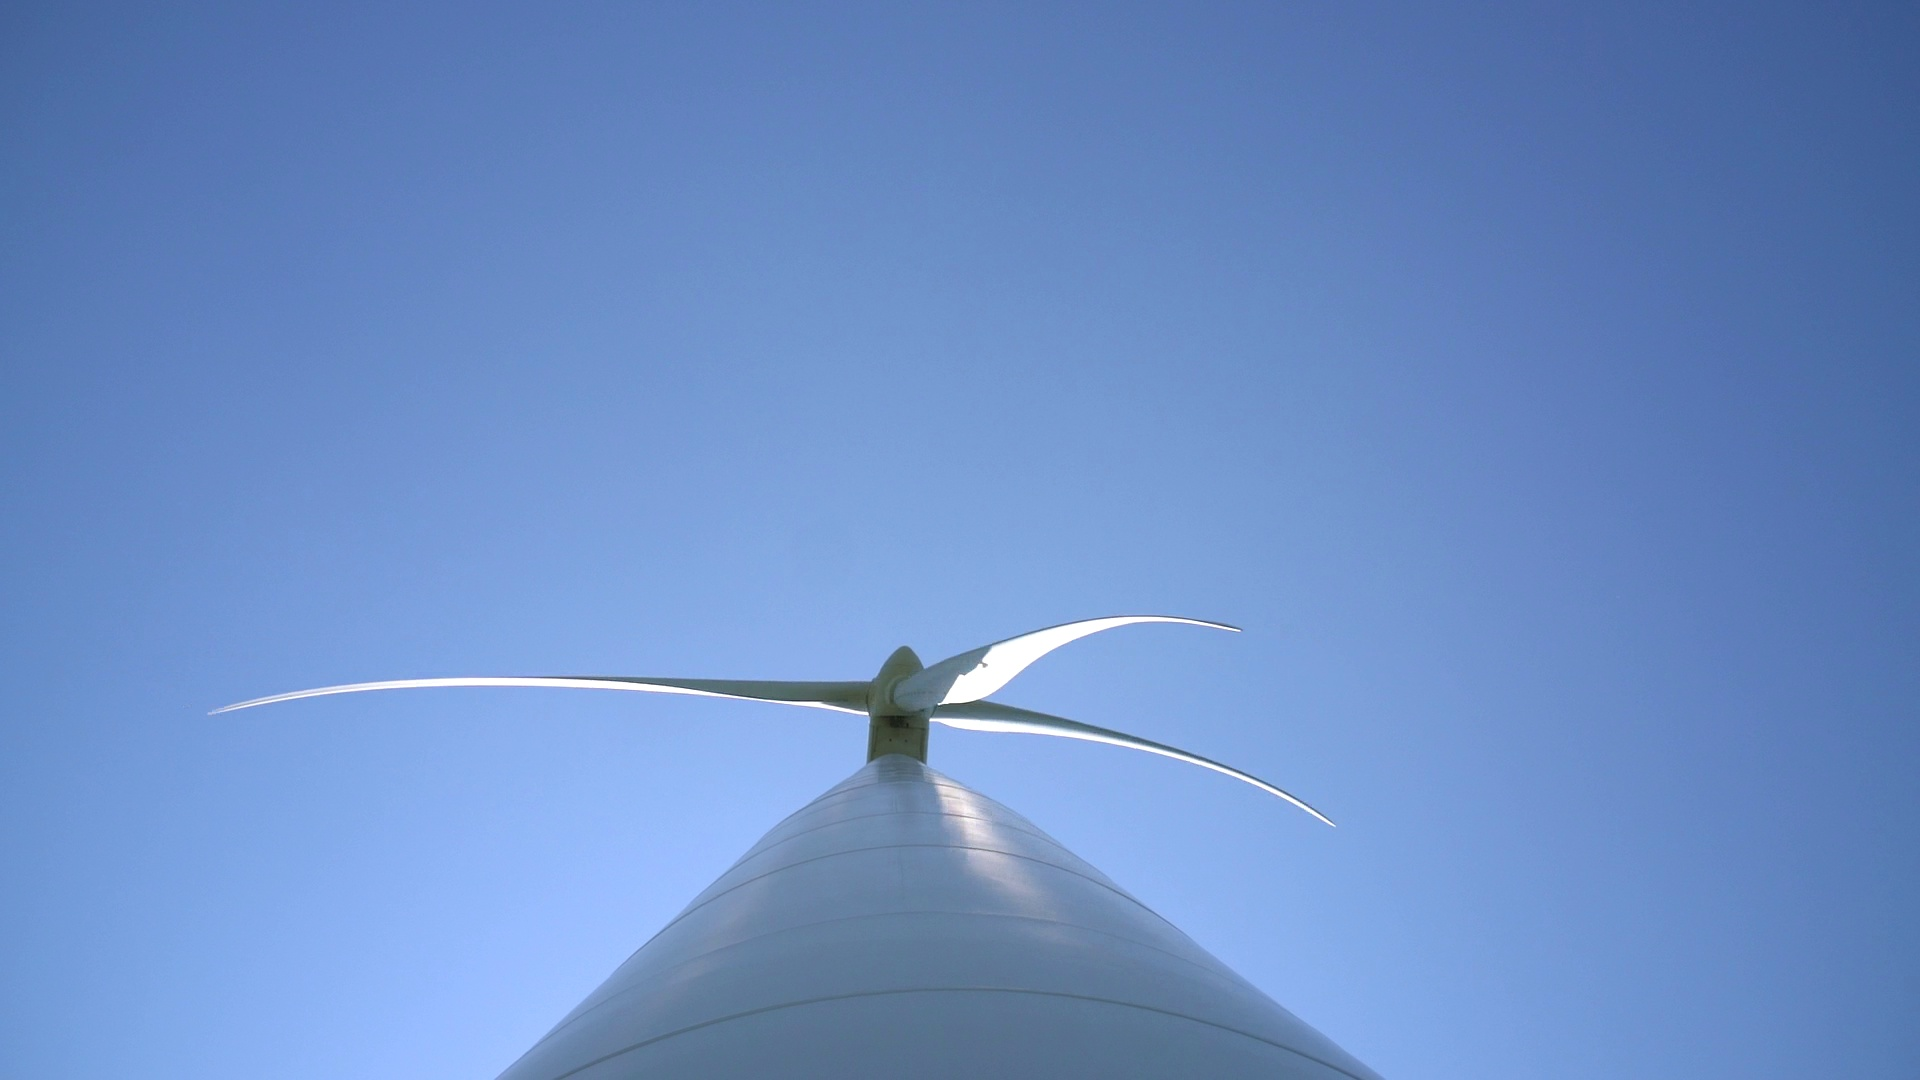turbine: (924, 687, 1400, 868), (131, 641, 872, 752), (891, 596, 1269, 702)
